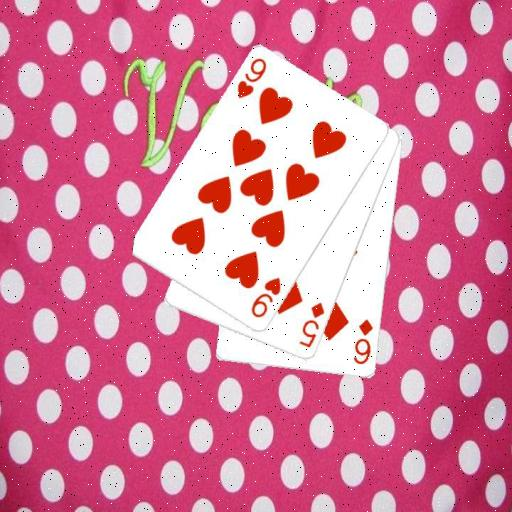5D: (296, 300, 326, 350)
6D: (351, 317, 375, 367)
9H: (247, 274, 283, 320), (234, 55, 268, 101)
